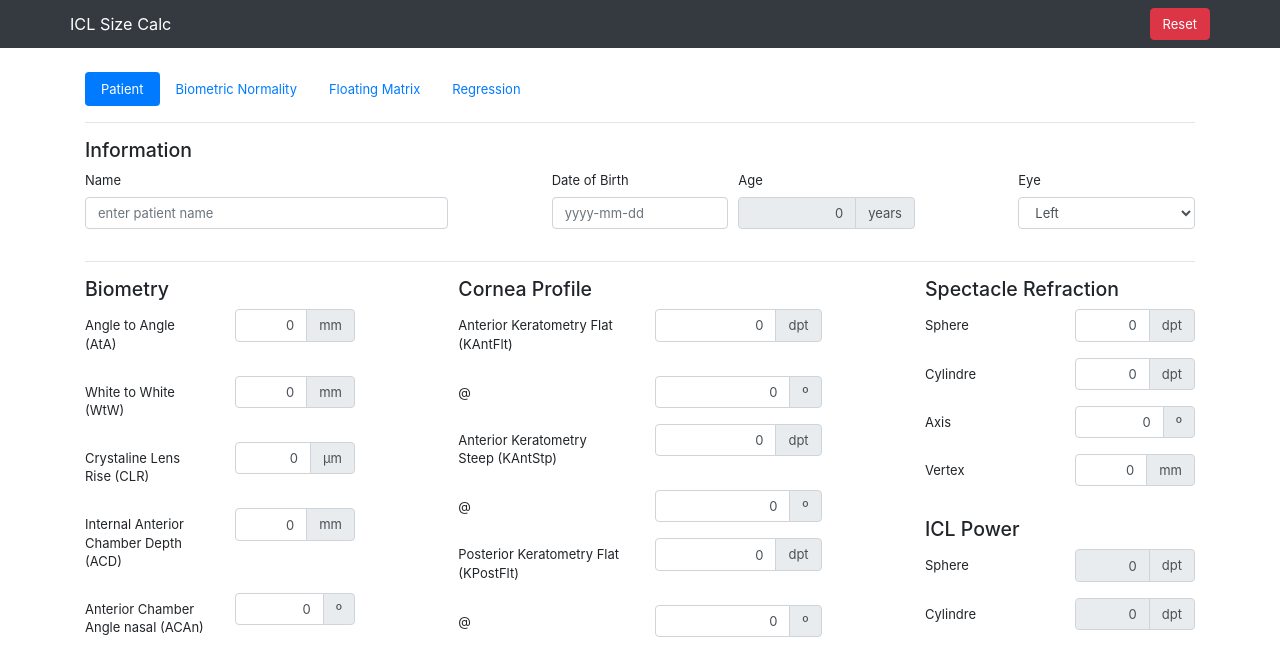
resets form when clicking reset button
Type "Blake" into the field labelled "Name". click: (267, 213)
box: [85,197,448,229]
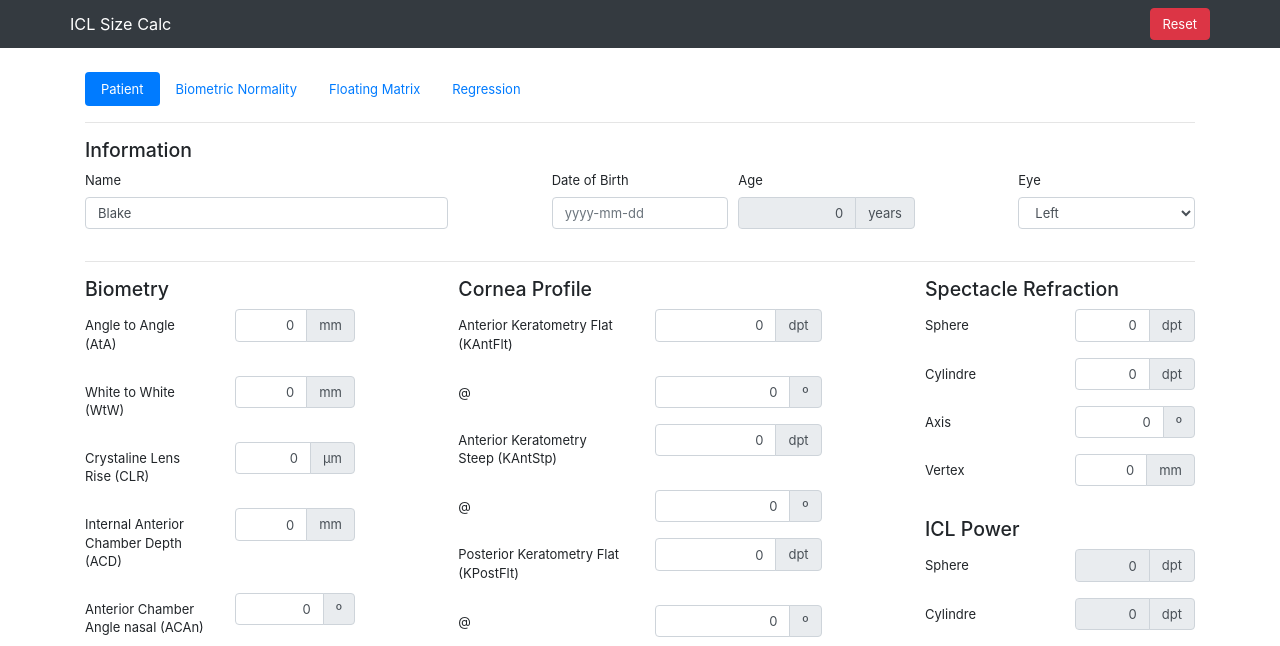
Click the button "Reset". click: click(1180, 24)
box: [1150,8,1210,40]
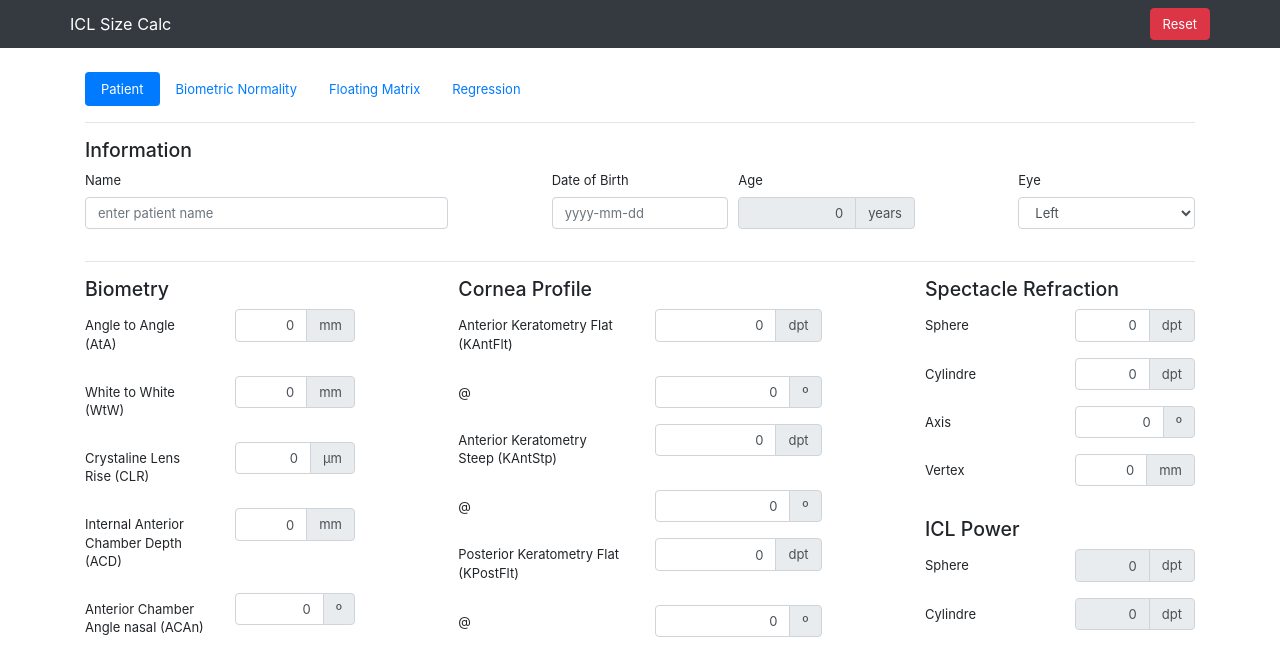
Check: the field labelled "Name" is empty, box [85,197,448,229]
